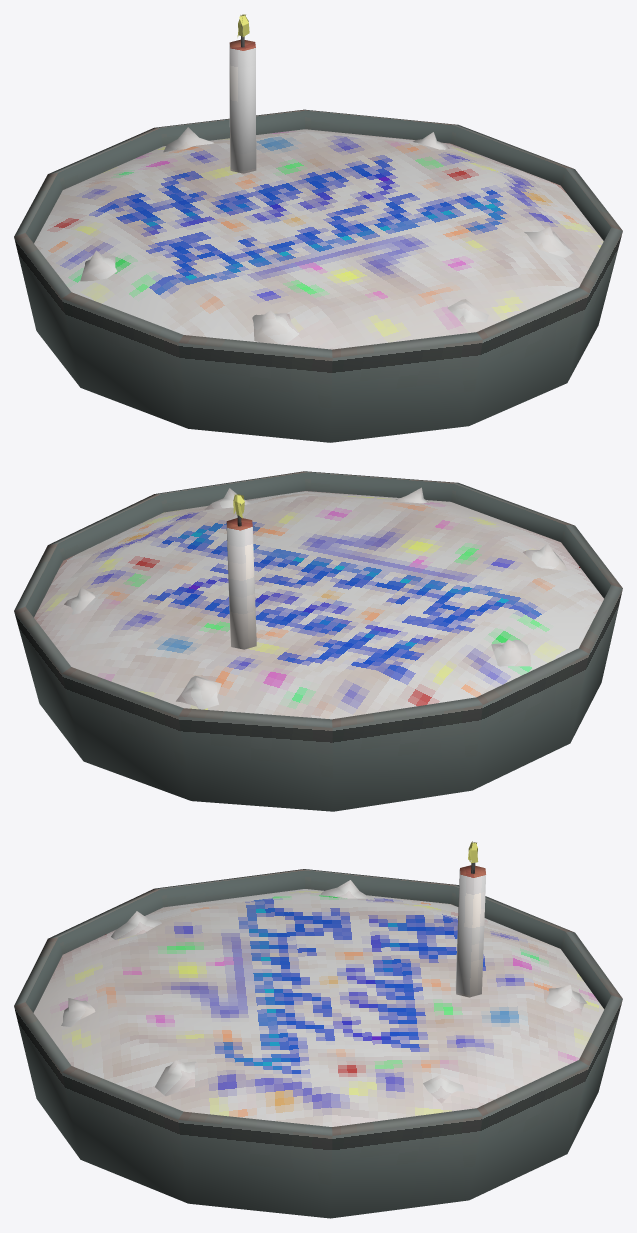
The model's file is CakePan_Icing_Candle.fbx.
3 renders of one model, top to bottom at view 1: azimuth 30°, elevation 25°; view 2: azimuth 150°, elevation 25°; view 3: azimuth 270°, elevation 25°, orthographic.
Parts seen in each view (by area): view 1: Cake.001; view 2: Cake.001; view 3: Cake.001.
Part boxes in pixels (<box>): Cake.001: <box>14,14,622,442</box>; Cake.001: <box>14,471,622,811</box>; Cake.001: <box>14,841,622,1218</box>.
Size of the model in its own units: 48.93 by 23.03 by 48.93.
